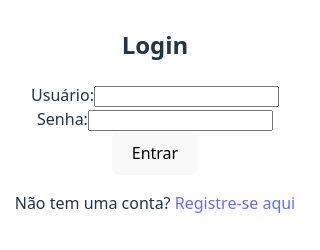
Scenario: LoginPage › should display an error message on failed login
Type "baduser" into the field labelled "Usuário:" at (186, 97), box [94,86,279,107]
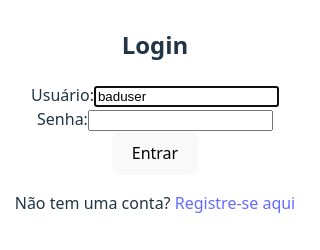
Type "badpassword" into the password field labelled "Senha:" at (180, 121), box [88,110,273,131]
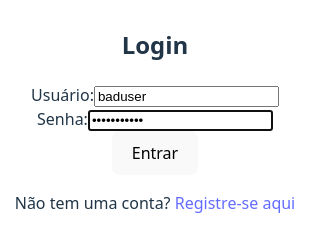
Click the button "Entrar" at (155, 153), box [112,131,198,174]
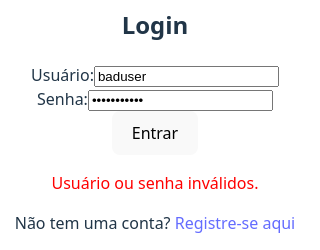
Check: the text "Usuário ou senha inválidos." is shown, box [52,172,258,194]
